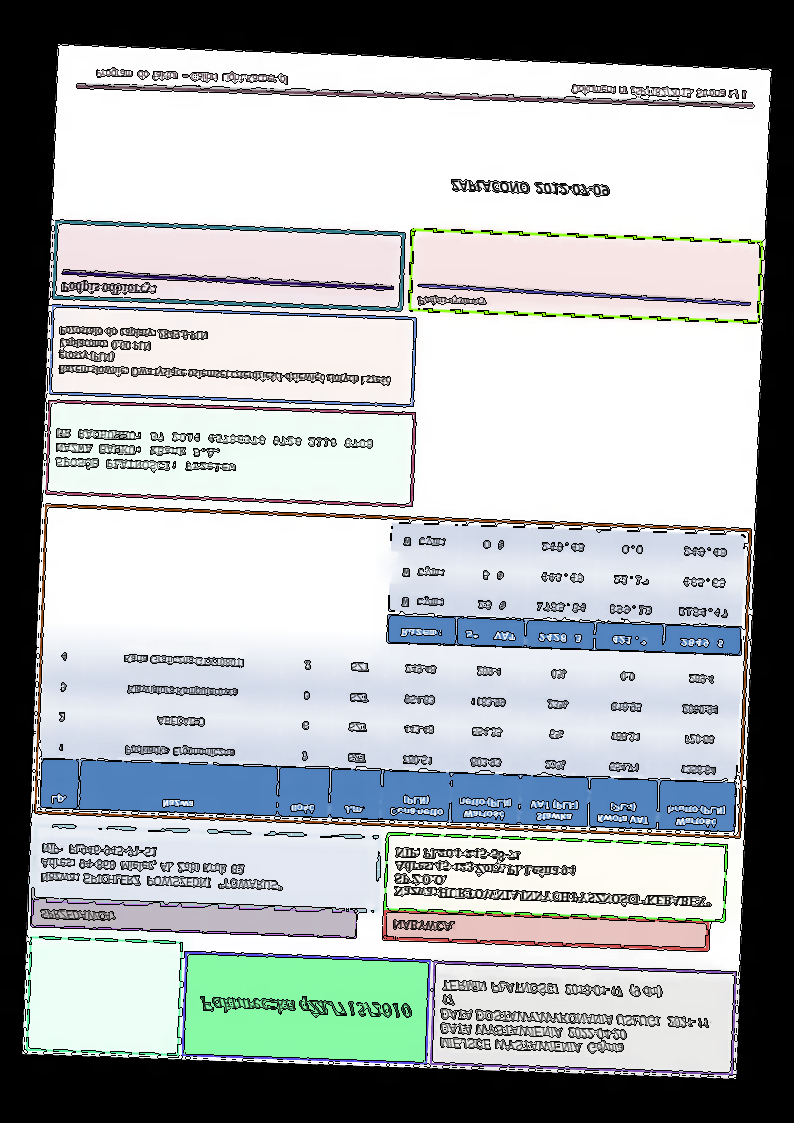Table: (38, 634, 739, 836), (386, 520, 747, 658)
TextBox: (438, 973, 715, 1061), (56, 322, 393, 390), (391, 845, 717, 911), (53, 424, 375, 482), (37, 839, 286, 897), (195, 992, 413, 1024), (92, 64, 289, 89), (570, 81, 749, 104), (449, 177, 612, 201), (58, 277, 157, 301), (414, 293, 490, 313), (38, 907, 115, 926), (389, 916, 456, 935)
